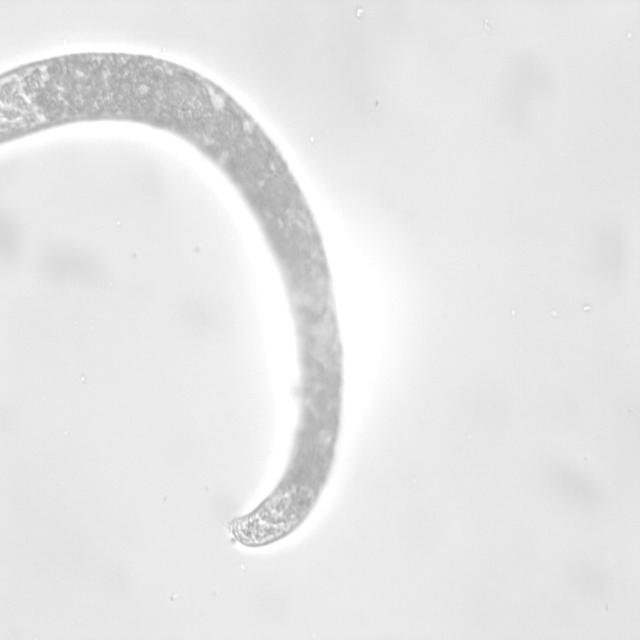Helicotylenchus: (210, 388, 364, 551)
